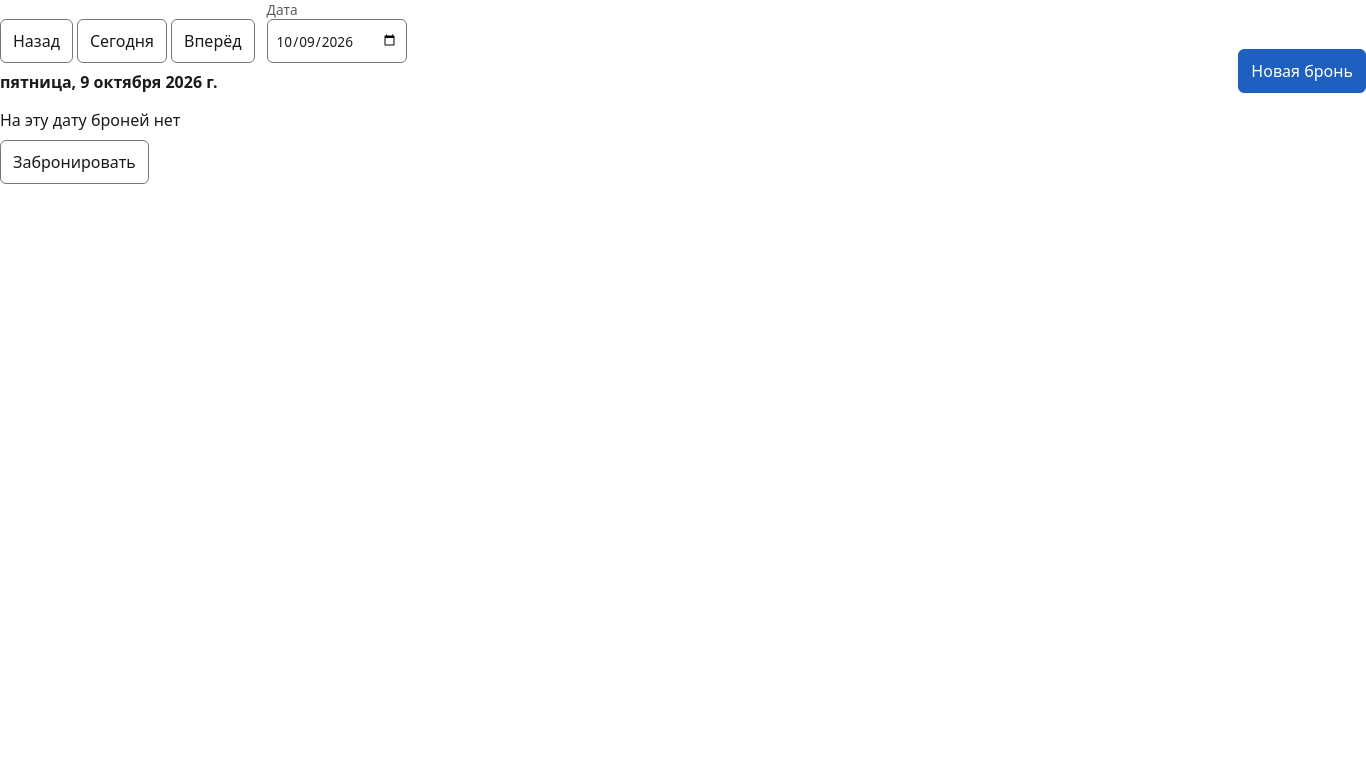
Test: Форма: 409 при сохранении (B8, Q7) › B8, U3: перезапрос списка после 409 упал → форма открыта, данные и сообщение о конфликте на месте
Click the button "Новая бронь" at (1302, 71), box x1=1238 y1=49 x2=1365 y2=93
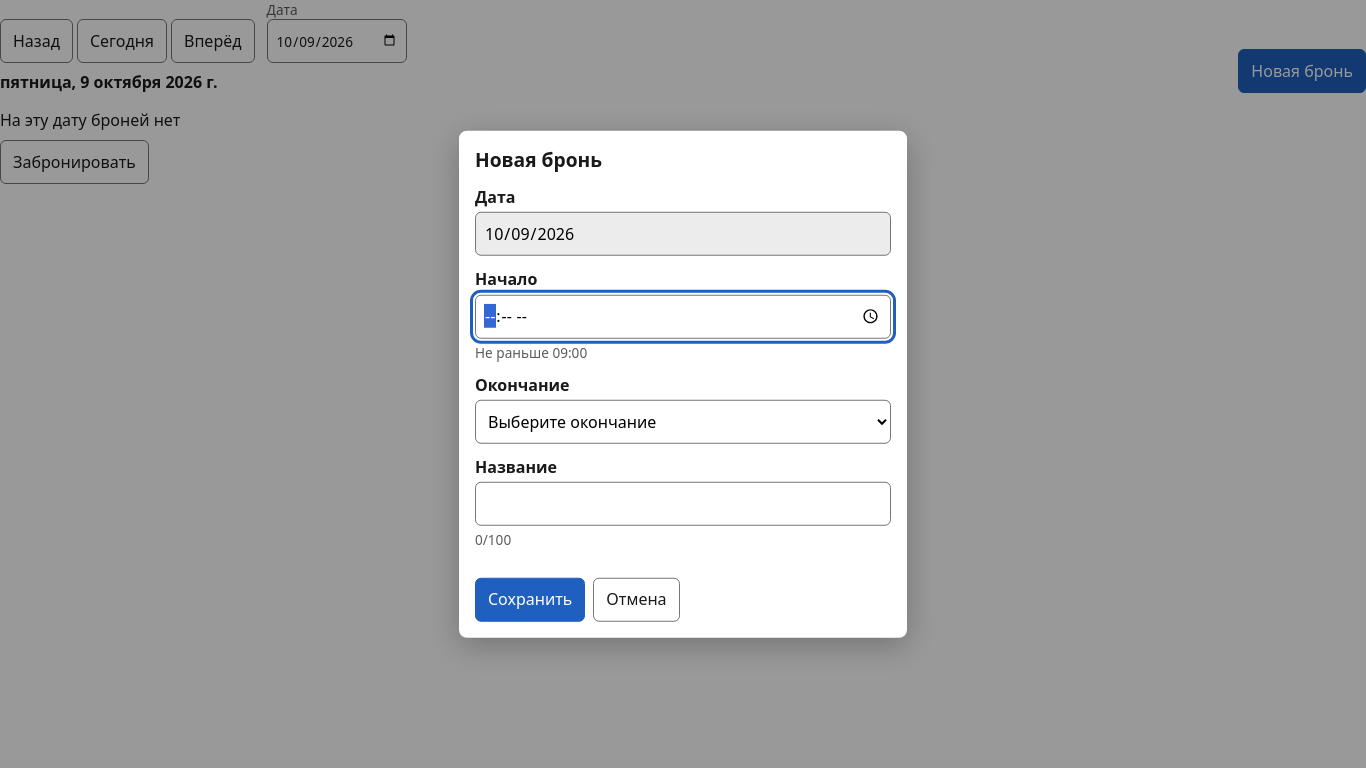
Now the dialog "Новая бронь" is shown, box x1=459 y1=131 x2=907 y2=637
Type "14:00" into the time field labelled "Начало" at (683, 316), box x1=475 y1=294 x2=891 y2=338
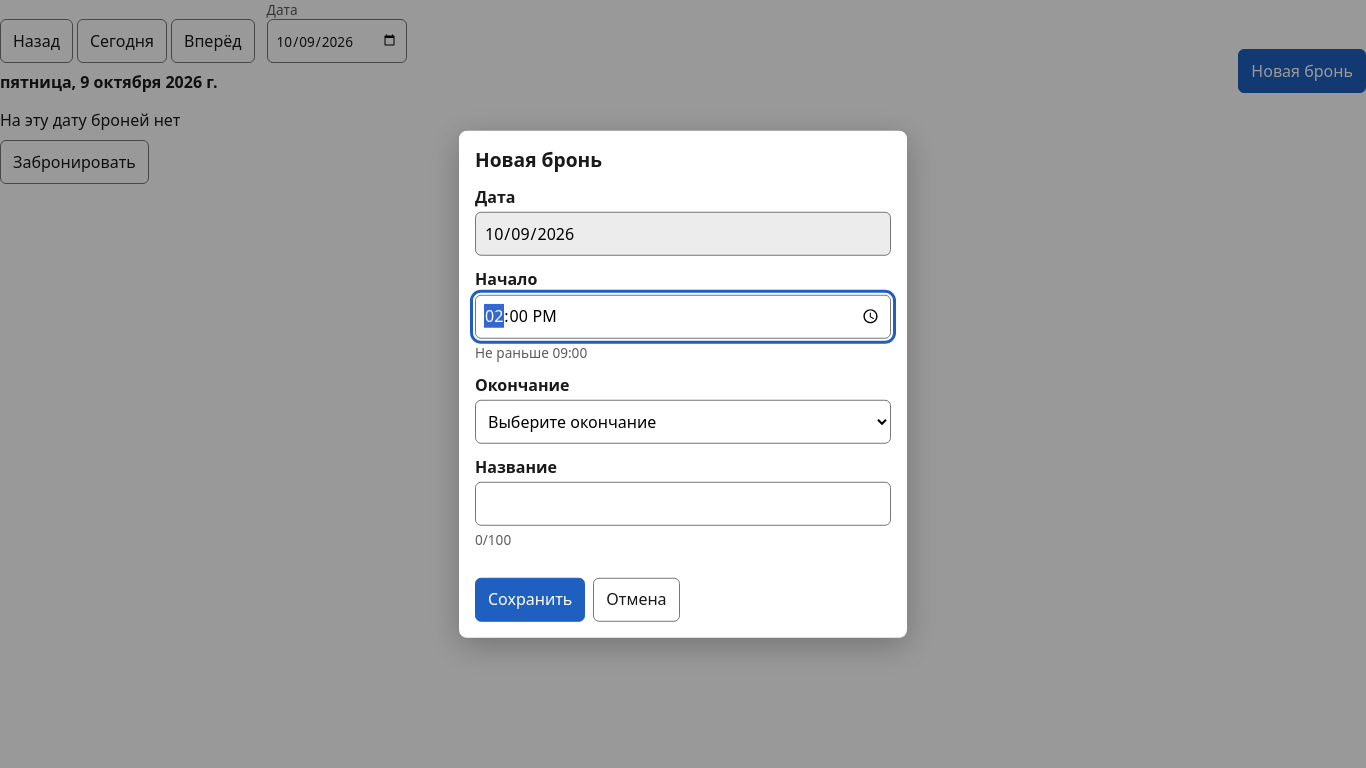
Select "15:00" in the dropdown labelled "Окончание" at (683, 422), box x1=475 y1=400 x2=891 y2=444
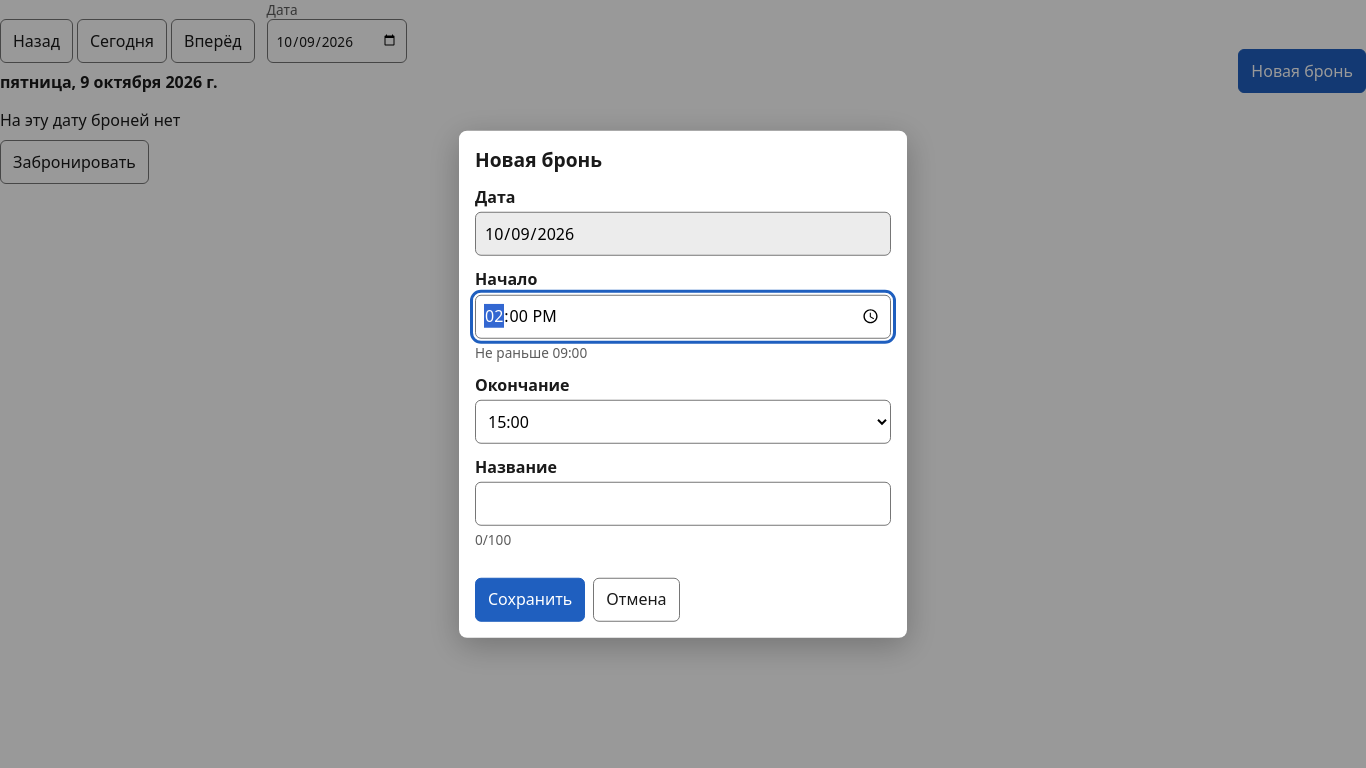
Type "Демо" into the field labelled "Название" at (683, 504), box x1=475 y1=482 x2=891 y2=526
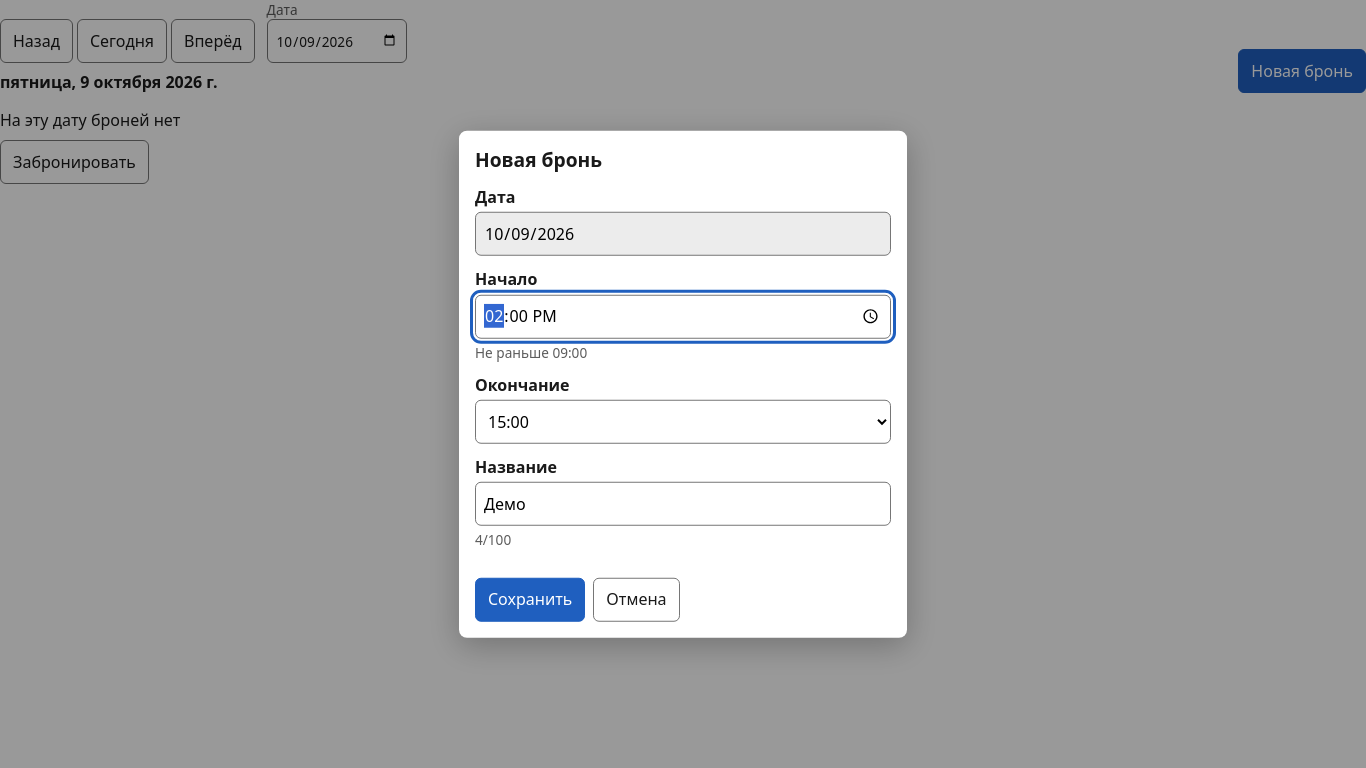
Click the button "Сохранить" at (530, 599), box x1=475 y1=577 x2=585 y2=621
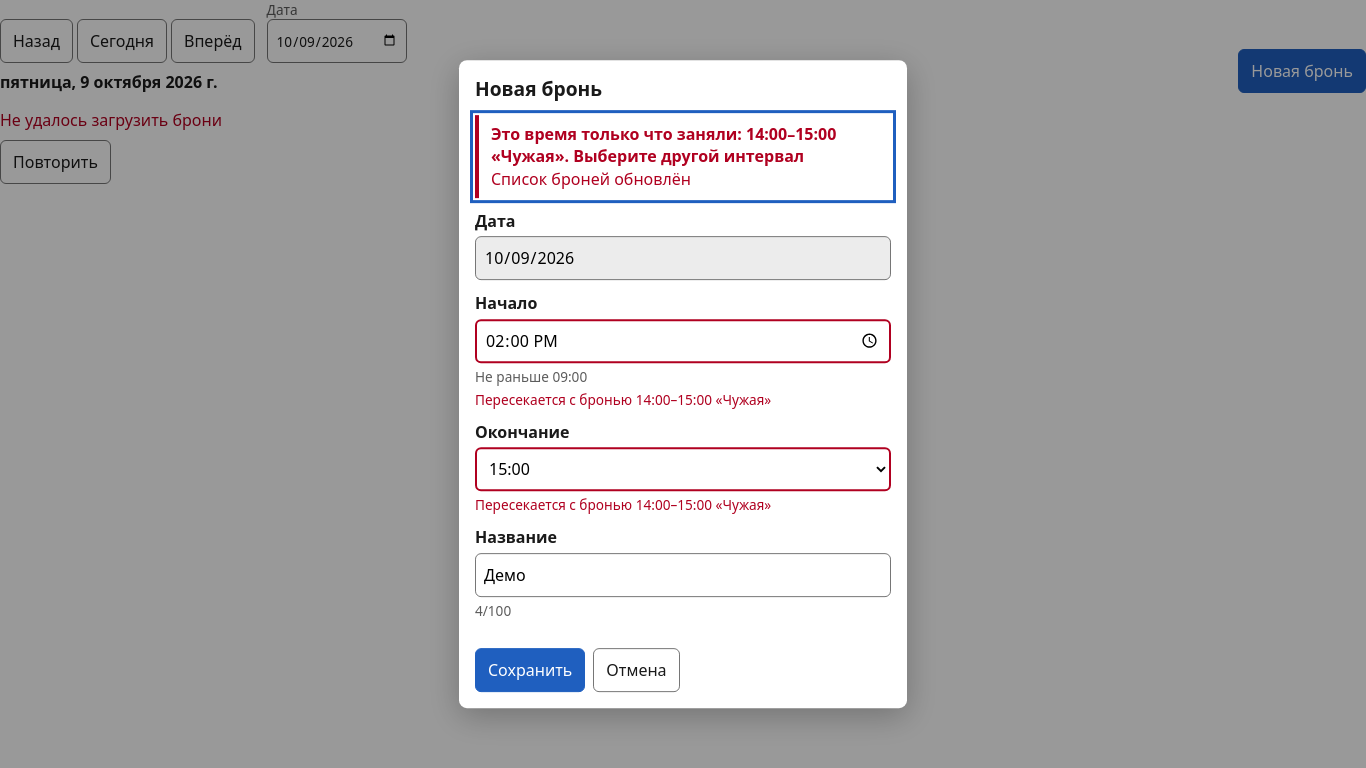
Now the dialog "Новая бронь" is shown, box x1=459 y1=60 x2=907 y2=708
Now the text "Не удалось загрузить брони" is shown, box x1=0 y1=109 x2=222 y2=131
Now the message shows "Это время только что заняли: 14:00–15:00 «Чужая». Выберите другой интервал", box x1=491 y1=123 x2=836 y2=167
